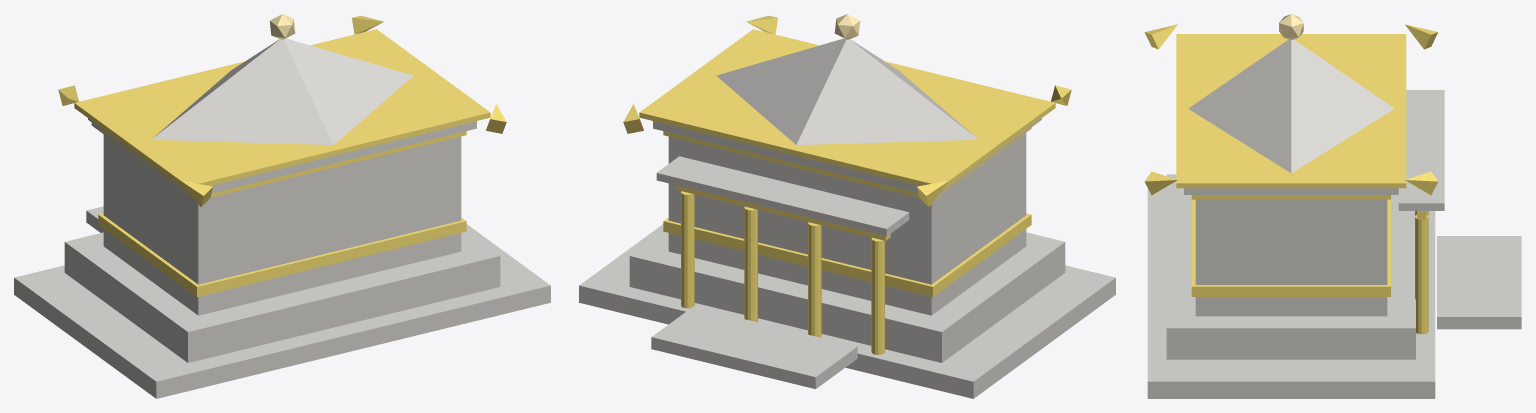
File: tianting_base.fbx
The picture shows the model from 3 angles, left to right: view 1: azimuth 30°, elevation 25°; view 2: azimuth 150°, elevation 25°; view 3: azimuth 270°, elevation 25°; orthographic projection.
Visible parts, largest first — view 1: TT_base_wall, TT_base_plinth, TT_base_step, TT_base_eave_gold, TT_base_roof, TT_base_girder_mid, TT_base_roof_base, TT_base_girder_top, TT_base_orb; view 2: TT_base_wall, TT_base_eave_gold, TT_base_plinth, TT_base_roof, TT_base_step, TT_base_stairs, TT_base_portal_top, TT_base_girder_mid, TT_base_roof_base, TT_base_col0, TT_base_col3, TT_base_col1 (+4 smaller); view 3: TT_base_eave_gold, TT_base_wall, TT_base_plinth, TT_base_step, TT_base_roof, TT_base_stairs, TT_base_portal_top, TT_base_girder_mid, TT_base_col3, TT_base_roof_base, TT_base_girder_top, TT_base_orb (+4 smaller).
Part boxes in pixels (x1,y1,x2,y2): TT_base_wall: [103, 133, 461, 315]; TT_base_plinth: [64, 231, 500, 362]; TT_base_step: [14, 224, 550, 398]; TT_base_eave_gold: [74, 29, 490, 191]; TT_base_roof: [151, 38, 413, 144]; TT_base_girder_mid: [98, 213, 466, 297]; TT_base_roof_base: [88, 118, 476, 195]; TT_base_girder_top: [98, 127, 466, 198]; TT_base_orb: [269, 14, 295, 39]; TT_base_wall: [668, 133, 1026, 315]; TT_base_eave_gold: [639, 29, 1055, 191]; TT_base_plinth: [629, 231, 1065, 362]; TT_base_roof: [716, 38, 978, 144]; TT_base_step: [579, 224, 1115, 398]; TT_base_stairs: [651, 306, 857, 389]; TT_base_portal_top: [656, 156, 909, 236]; TT_base_girder_mid: [663, 213, 1031, 297]; TT_base_roof_base: [653, 118, 1041, 195]; TT_base_col0: [871, 237, 884, 354]; TT_base_col3: [681, 191, 694, 308]; TT_base_col1: [808, 222, 821, 337]; TT_base_eave_gold: [1176, 34, 1406, 188]; TT_base_wall: [1195, 199, 1387, 316]; TT_base_plinth: [1166, 174, 1415, 359]; TT_base_step: [1147, 187, 1435, 398]; TT_base_roof: [1188, 39, 1394, 173]; TT_base_stairs: [1437, 236, 1521, 329]; TT_base_portal_top: [1398, 90, 1444, 210]; TT_base_girder_mid: [1191, 199, 1390, 296]; TT_base_col3: [1415, 215, 1428, 334]; TT_base_roof_base: [1184, 188, 1398, 194]; TT_base_girder_top: [1191, 195, 1390, 199]; TT_base_orb: [1279, 14, 1303, 39].
Size of the model in its own units: 12 by 8.28 by 9.83.
